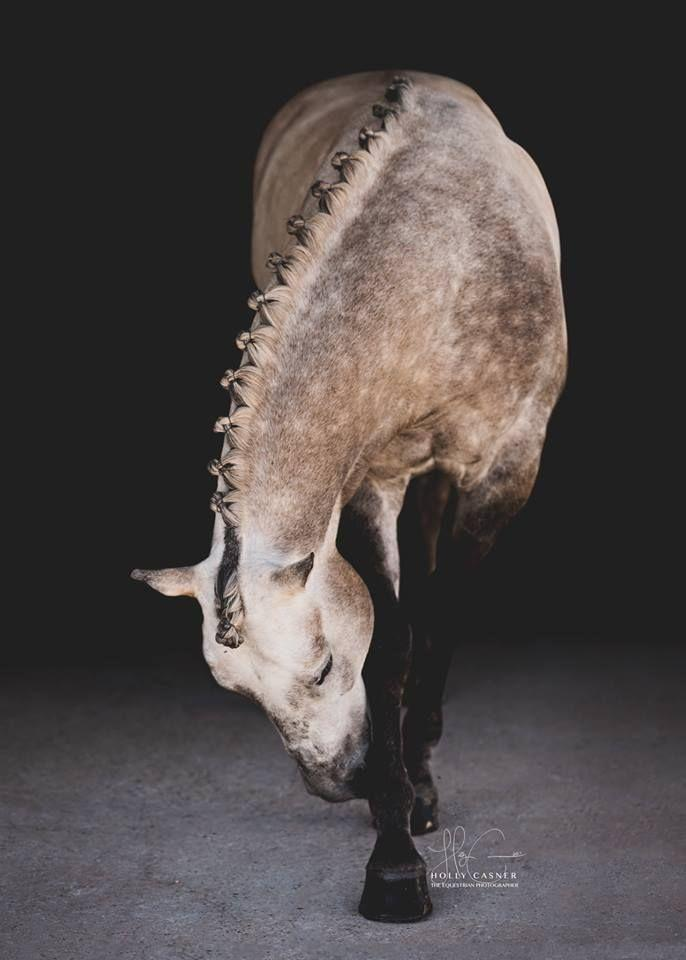horse: (129, 67, 569, 923)
